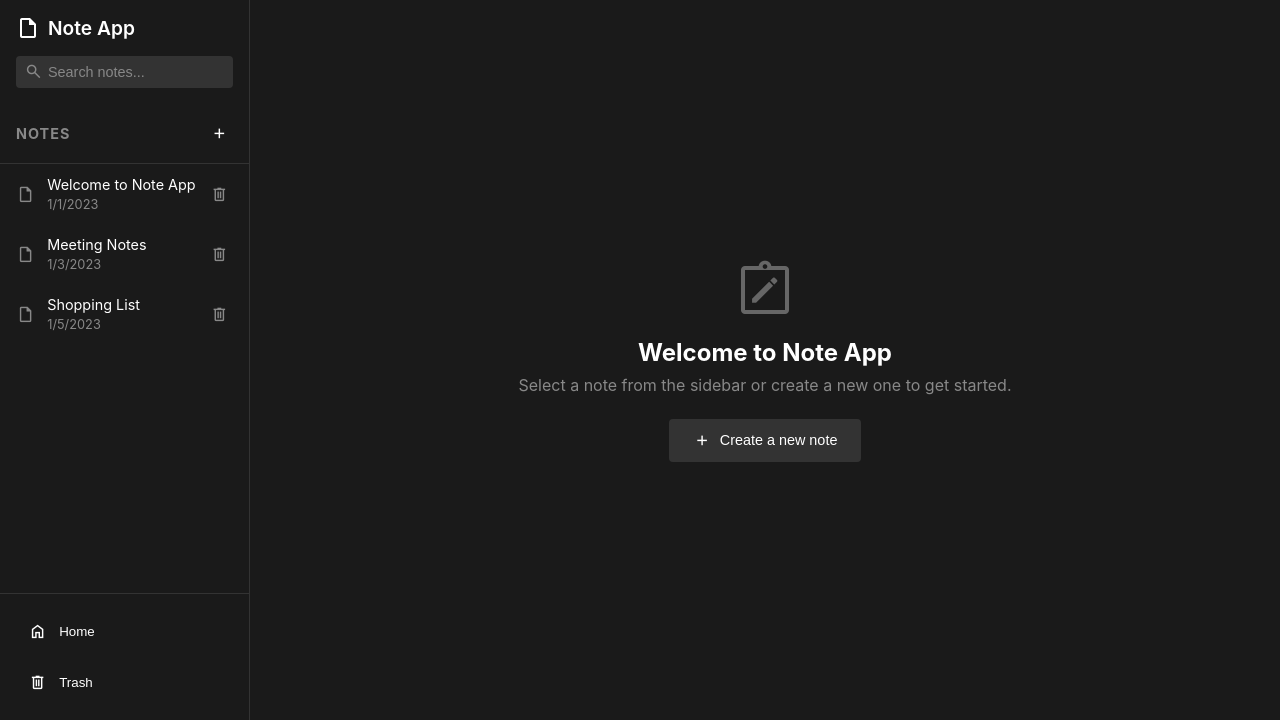
Test: App Component › creates a new note when clicking the create button
Click the button "Create a new note".
click(765, 440)  # box 669,419 -> 861,462
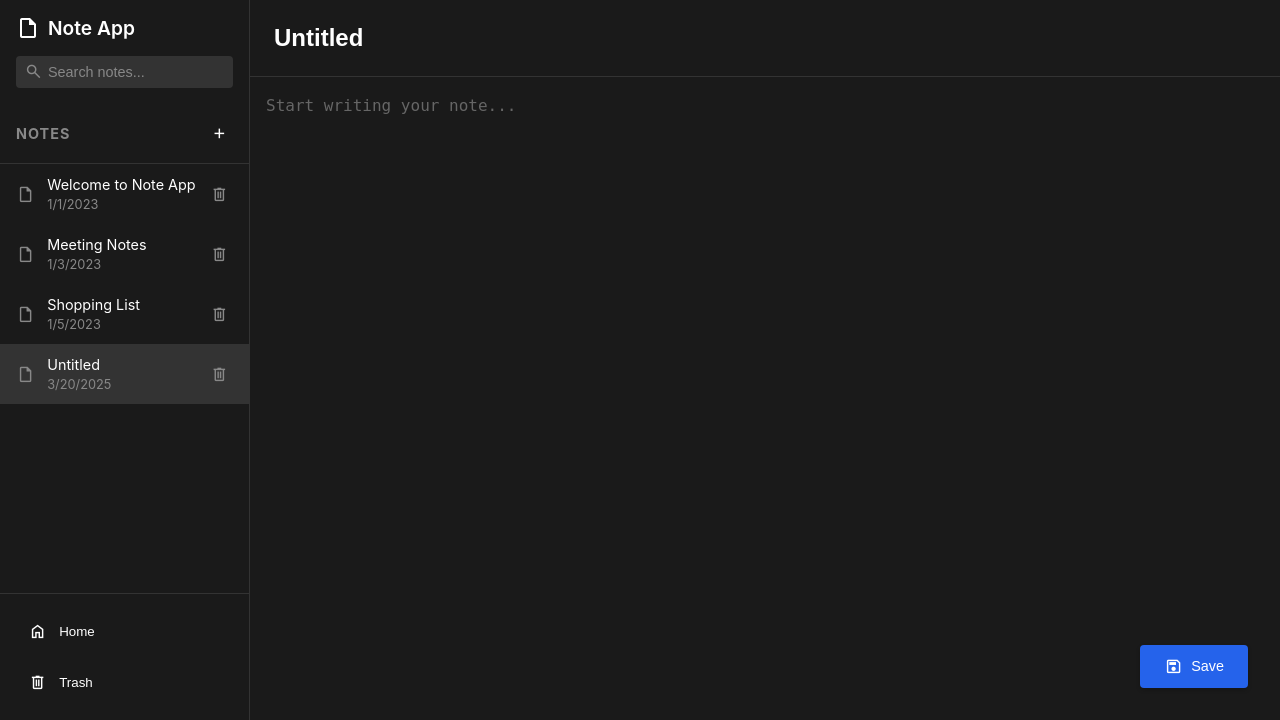
Result: the field with placeholder "Untitled" is shown at 266,16 -> 1264,60
Result: the text box with placeholder "Start writing your note..." is shown at 266,93 -> 1264,144
